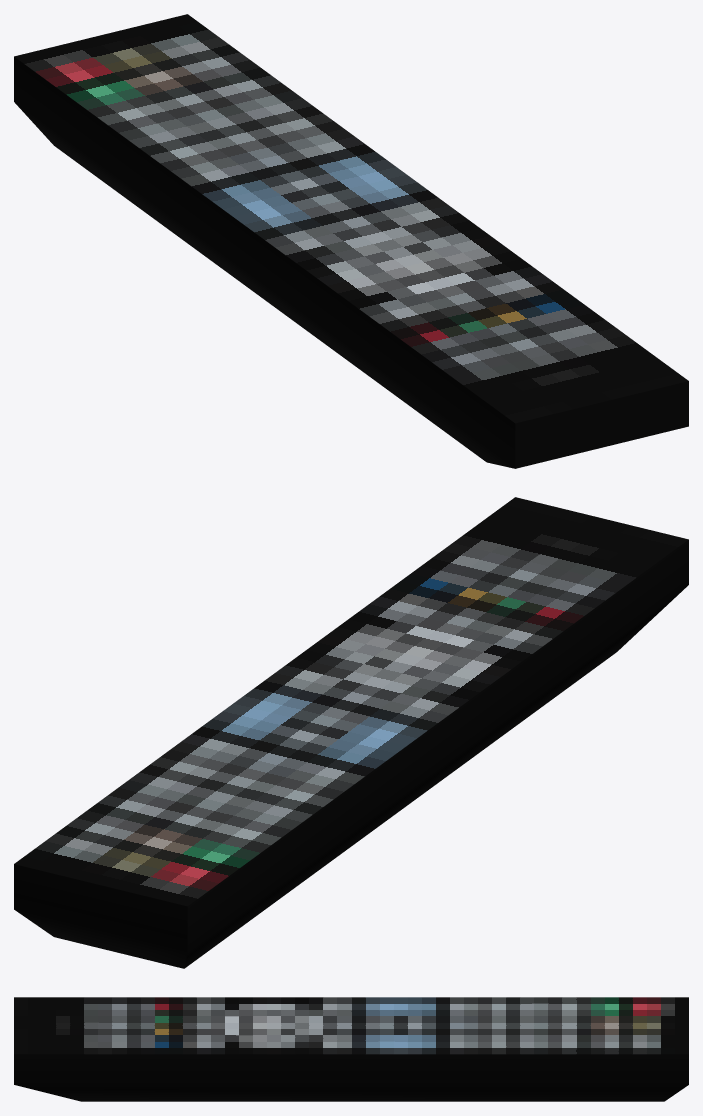
3 views of the same model, one above another, from view 1: azimuth 30°, elevation 25°; view 2: azimuth 150°, elevation 25°; view 3: azimuth 270°, elevation 25° (orthographic). The views are drawn at different scales.
Parts seen in each view (by area): view 1: cube1_Remote_Keys, cube1_Remote_Black; view 2: cube1_Remote_Keys, cube1_Remote_Black, cube1_Remode_IR; view 3: cube1_Remote_Keys, cube1_Remote_Black.
Boxes of the visible parts, x1=… form: cube1_Remote_Keys: x1=14, y1=14, x2=688, y2=423; cube1_Remote_Black: x1=14, y1=57, x2=688, y2=468; cube1_Remote_Keys: x1=14, y1=497, x2=688, y2=906; cube1_Remote_Black: x1=14, y1=540, x2=688, y2=968; cube1_Remode_IR: x1=14, y1=864, x2=187, y2=951; cube1_Remote_Keys: x1=14, y1=997, x2=688, y2=1054; cube1_Remote_Black: x1=14, y1=1054, x2=688, y2=1101.
Size of the model in its own units: 1 by 0.4464 by 5.
Materials: 3 (1 with a texture image).
